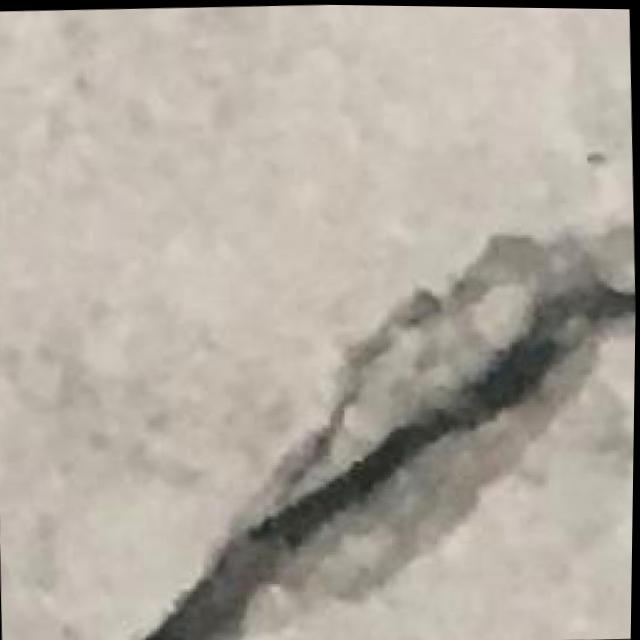Crack: (132, 213, 638, 640)
